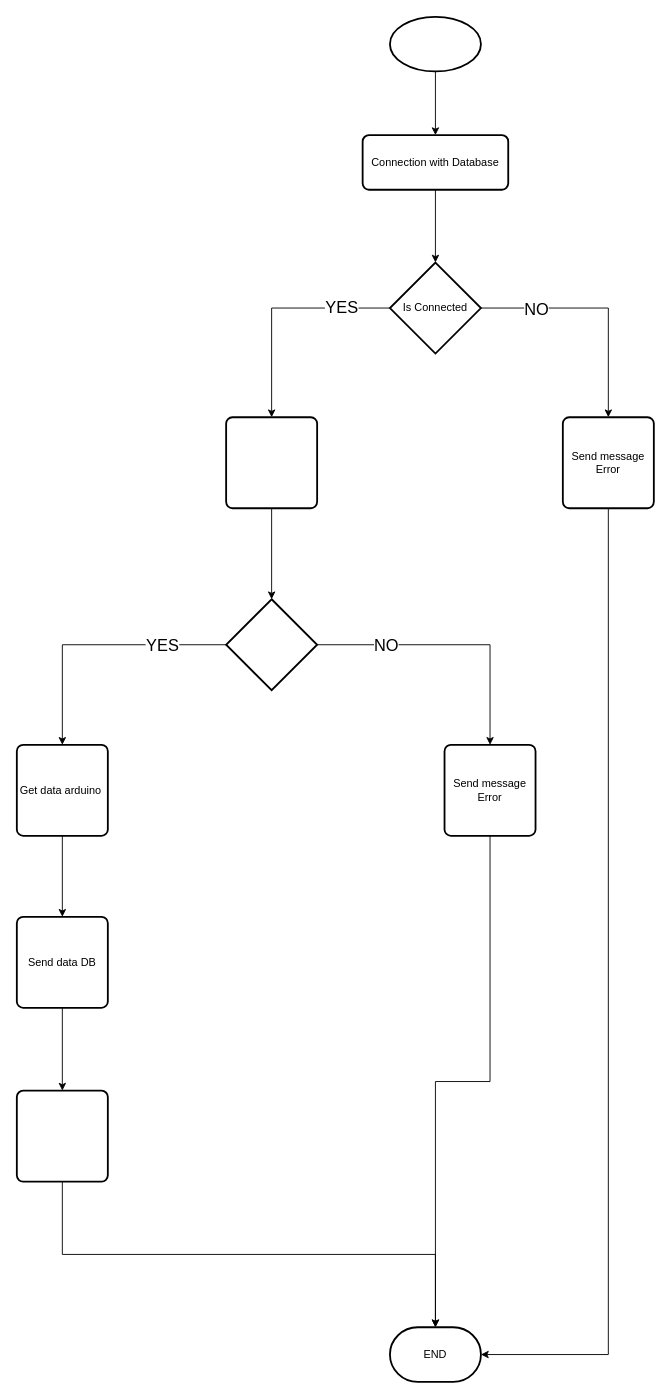
Some shapes in this 670 by 1398 pixel diagram are drawn without their labels. The centre of each missing label's shape, as x and y in pixels:
Connection with Arduino: point 271,462
Is True: point 271,644
Send message successful: point 61,1135
START: point 435,43
